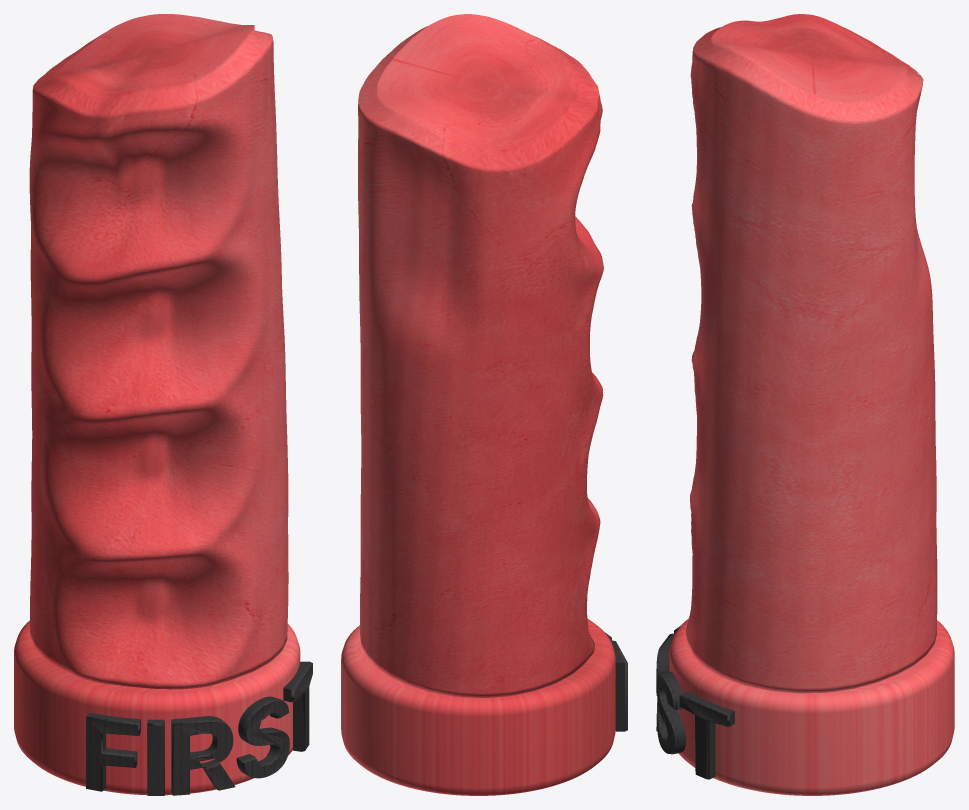
The model's file is first-sculpt-handformed-v3.glb.
3 views of the same model, side by side, from view 1: azimuth 30°, elevation 25°; view 2: azimuth 150°, elevation 25°; view 3: azimuth 270°, elevation 25° (orthographic). The views are drawn at different scales.
Bounding box in the file's own units: 0.998 × 2.77 × 1.04.
1 material, 1 textured.
